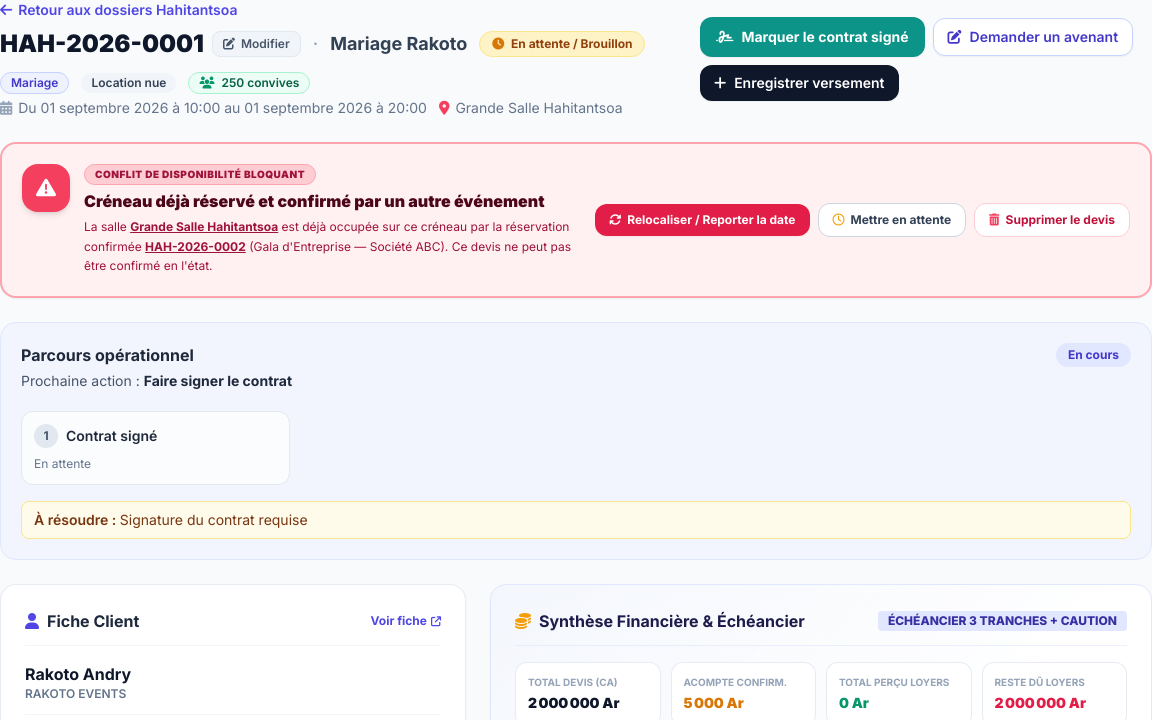
it: HahitantsoaEventDraftDetailPage › displays conflict notification banner with direct action buttons when draft is in conflict
Expected: the text "Conflit de disponibilité bloquant" is shown, top-left (84, 164), bottom-right (316, 185)
Expected: the heading "Créneau déjà réservé et confirmé par un autre événement" is shown, top-left (84, 189), bottom-right (579, 213)
Note: Click reschedule button to trigger modal
Click the button "Relocaliser / Reporter la date" at (702, 220), box top-left (595, 204), bottom-right (810, 236)
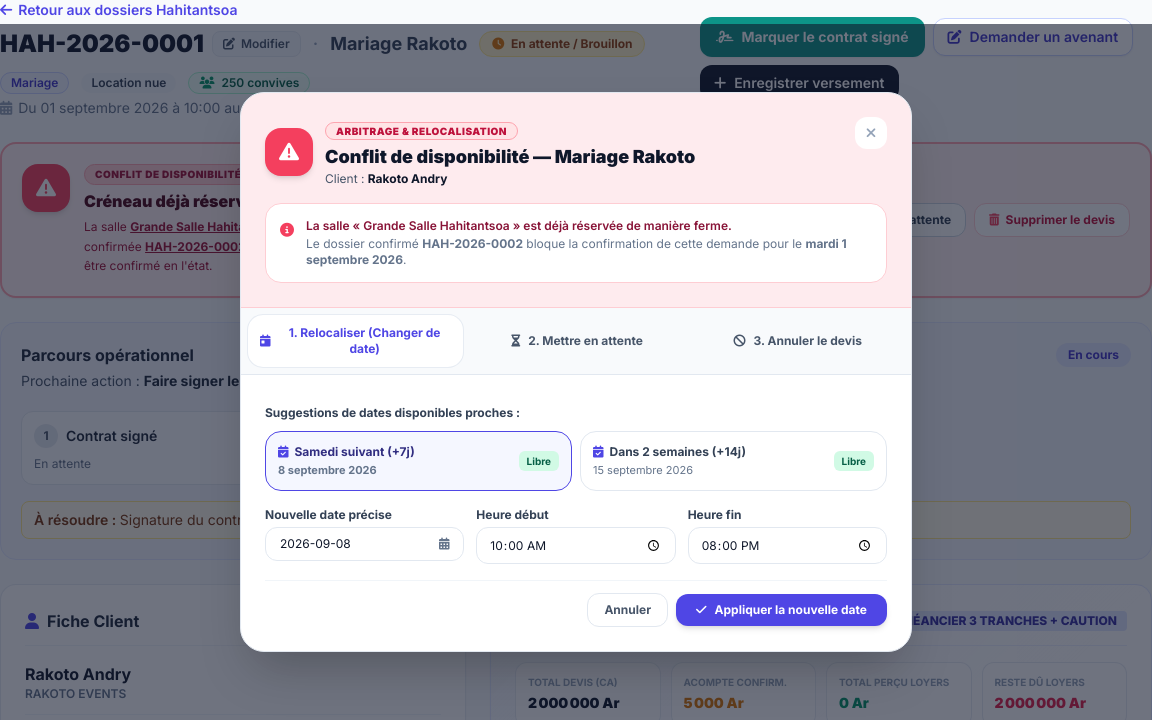
Expected: the text "Arbitrage & Relocalisation" is shown, top-left (325, 122), bottom-right (518, 140)
